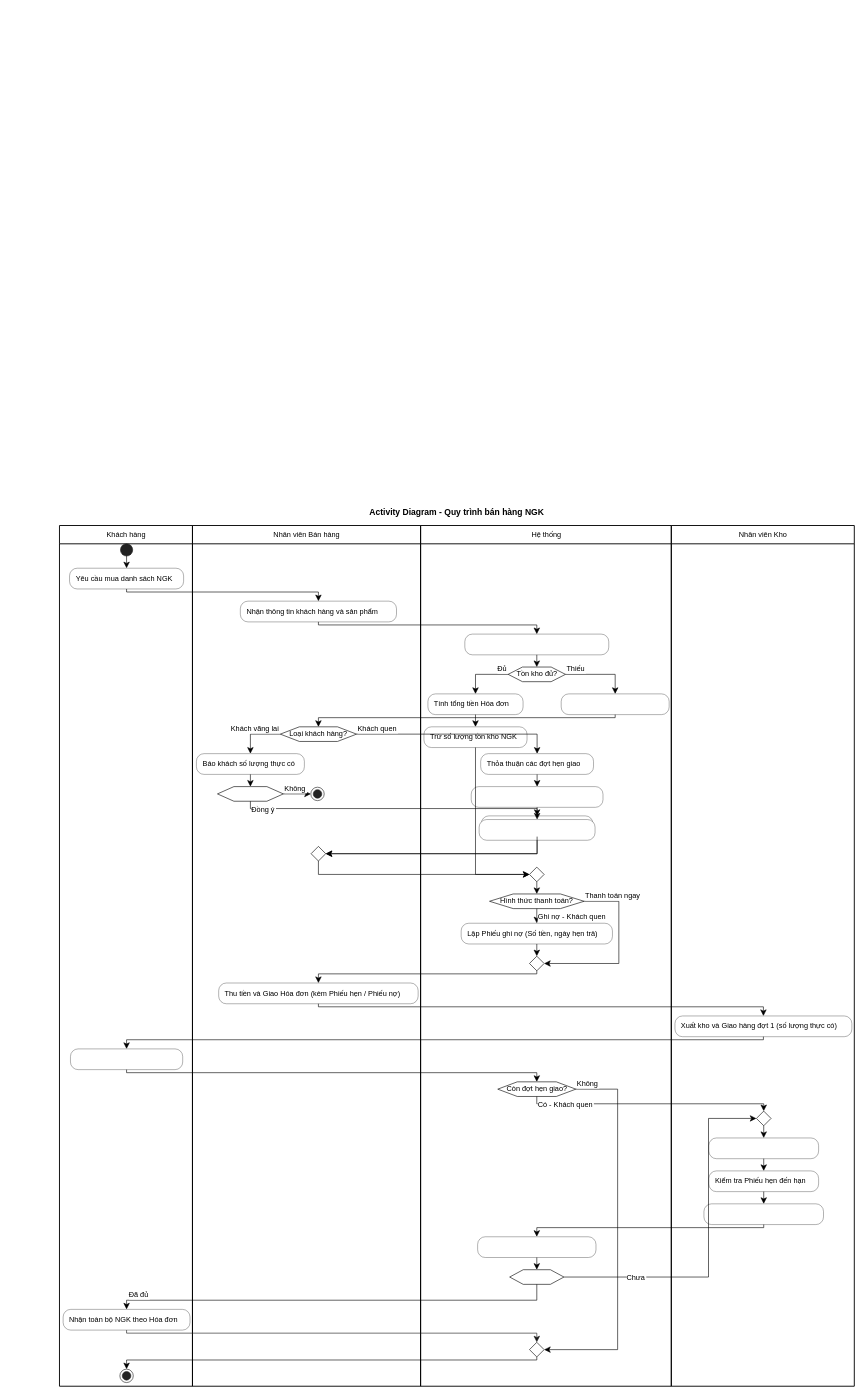
Image size: 865x1397. Some labels were removed from this diagram. The centre of each missing label's shape, as x and y in pixels:
"Cập nhật trạng thái Phiếu hẹn" belongs at point (536, 1246).
"Khách đồng ý?" belongs at point (250, 793).
"Kiểm tra tồn kho từng mặt hàng NGK" belongs at point (536, 644).
"Lập Hóa đơn theo tổng lượng mua" belongs at point (537, 796).
"Nhận hàng và Hóa đơn đợt 1" belongs at point (126, 1059).
"Nhập hàng NGK mới về kho" belongs at point (763, 1148).
"Tính toán số lượng thực có" belongs at point (615, 703).
"Tạo Phiếu hẹn giao nhiều đợt" belongs at point (537, 829).
"Xuất kho và Giao đợt tiếp theo" belongs at point (763, 1213).
"Đã giao đủ?" belongs at point (536, 1276).
